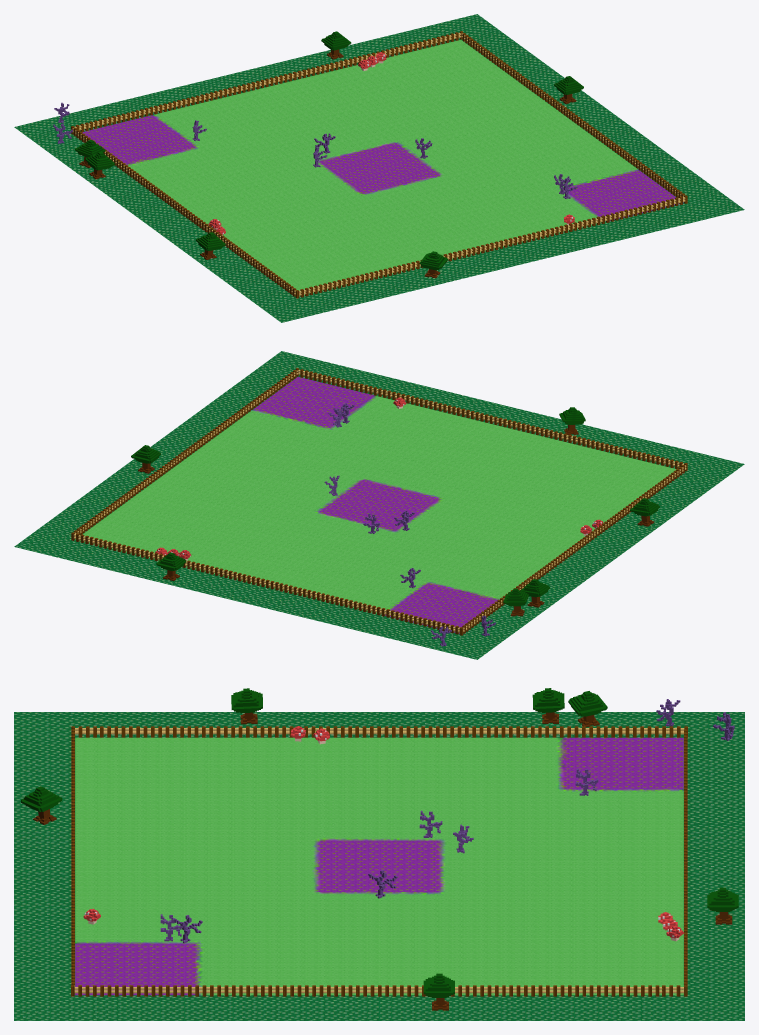
File: Map7.fbx
3 renders of one model, top to bottom at view 1: azimuth 30°, elevation 25°; view 2: azimuth 150°, elevation 25°; view 3: azimuth 270°, elevation 25°, orthographic. The views are drawn at different scales.
Visible parts, largest first — view 1: pPlane1, fence32; view 2: pPlane1, fence32; view 3: pPlane1, fence32, Tree2, Tree5, Tree4, Tree3, Tree1, Tree.
Part boxes in pixels (bbox=[...]): pPlane1: bbox=[14, 14, 744, 322]; fence32: bbox=[71, 31, 687, 298]; pPlane1: bbox=[14, 351, 744, 659]; fence32: bbox=[71, 368, 687, 635]; pPlane1: bbox=[14, 712, 744, 1020]; fence32: bbox=[71, 726, 687, 996]; Tree2: bbox=[568, 691, 607, 727]; Tree5: bbox=[21, 786, 62, 824]; Tree4: bbox=[231, 688, 262, 724]; Tree3: bbox=[532, 688, 564, 723]; Tree1: bbox=[707, 887, 738, 924]; Tree: bbox=[423, 973, 454, 1010].
Bounding box in the file's own units: 60 × 3.02 × 60.
